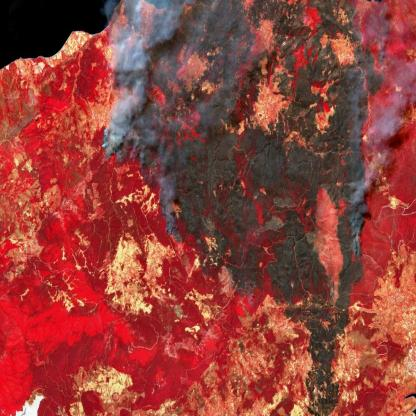fire: (101, 0, 262, 315), (322, 0, 389, 292)
